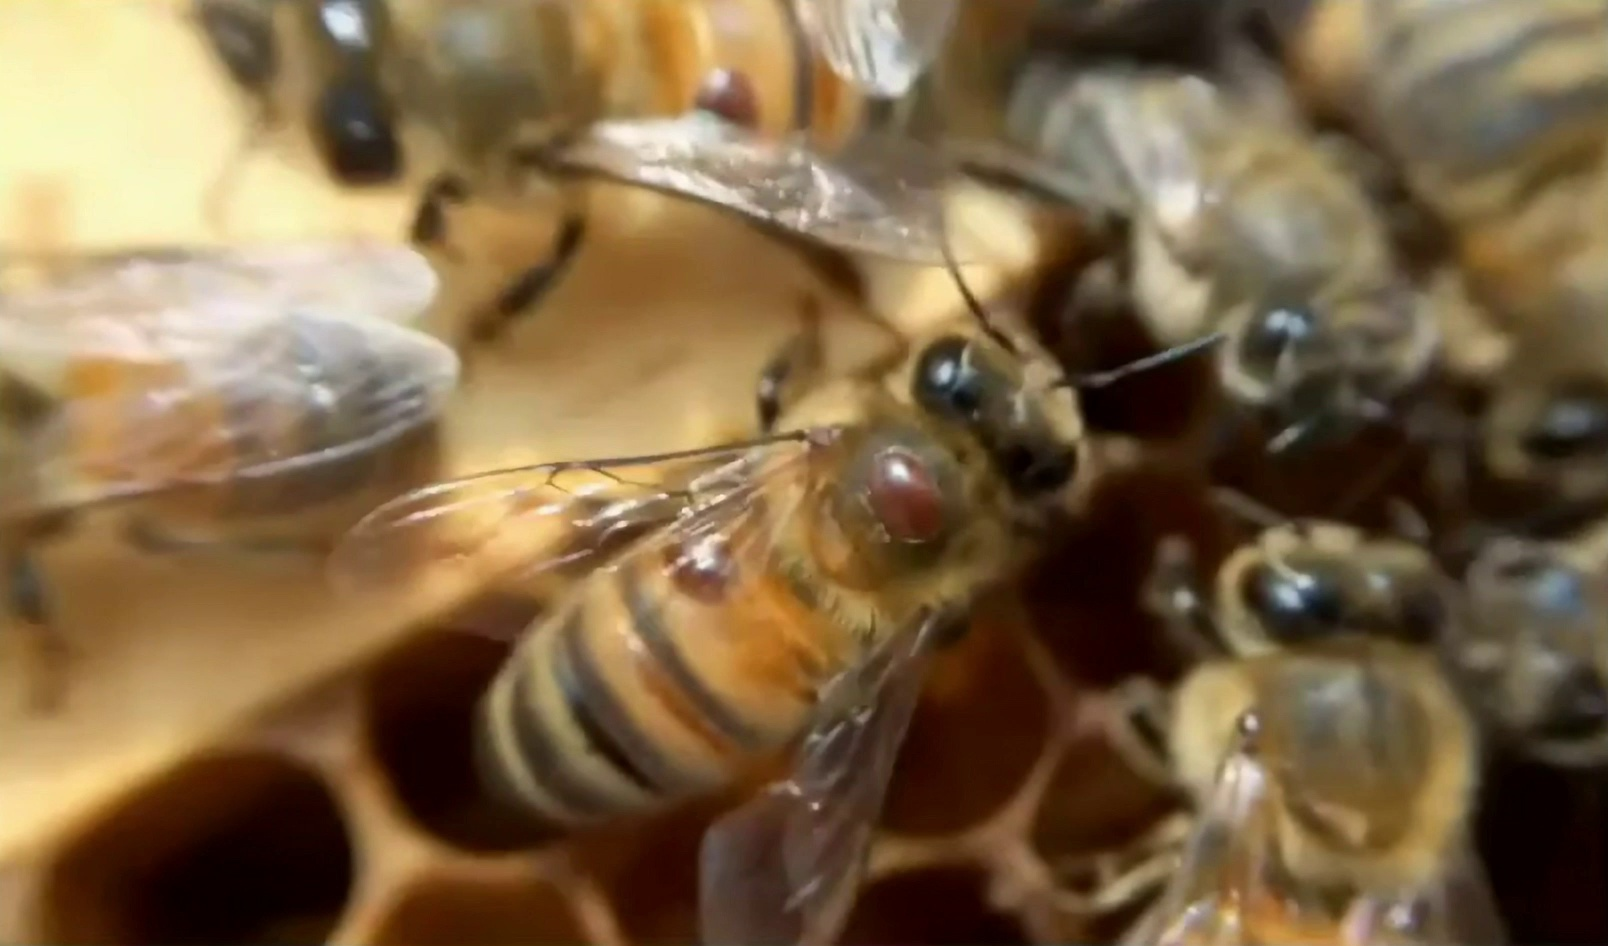varroa: (855, 443, 947, 546), (659, 521, 745, 601), (693, 63, 763, 133)
